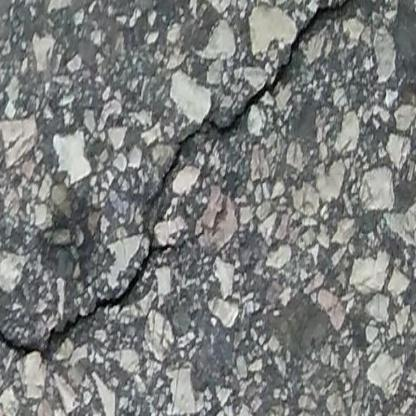Cracks: (160, 0, 367, 190), (0, 239, 181, 362)
